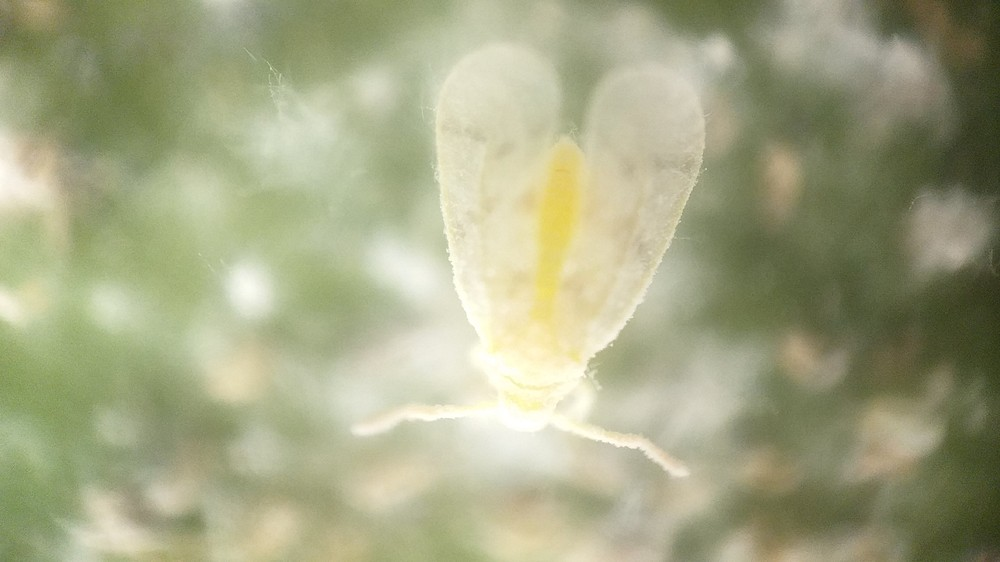Mosca Blanca: (336, 42, 741, 506)
